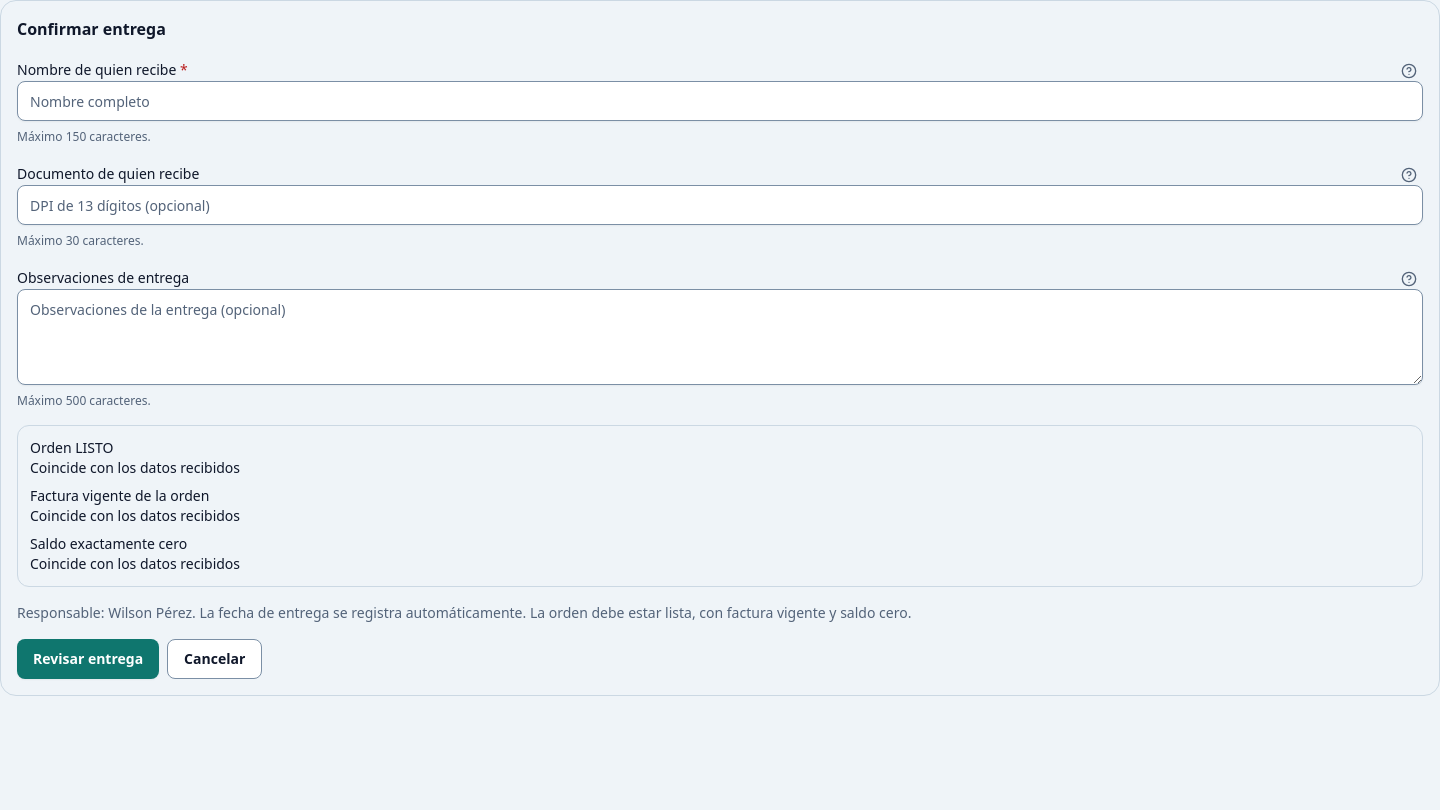
Test case: entregas reales › conserva receptor y documento al fallar con 400 sin reintentar
Type "Receptor" into the field labelled "Nombre de quien recibe *" at (720, 101), box x1=17 y1=81 x2=1423 y2=121
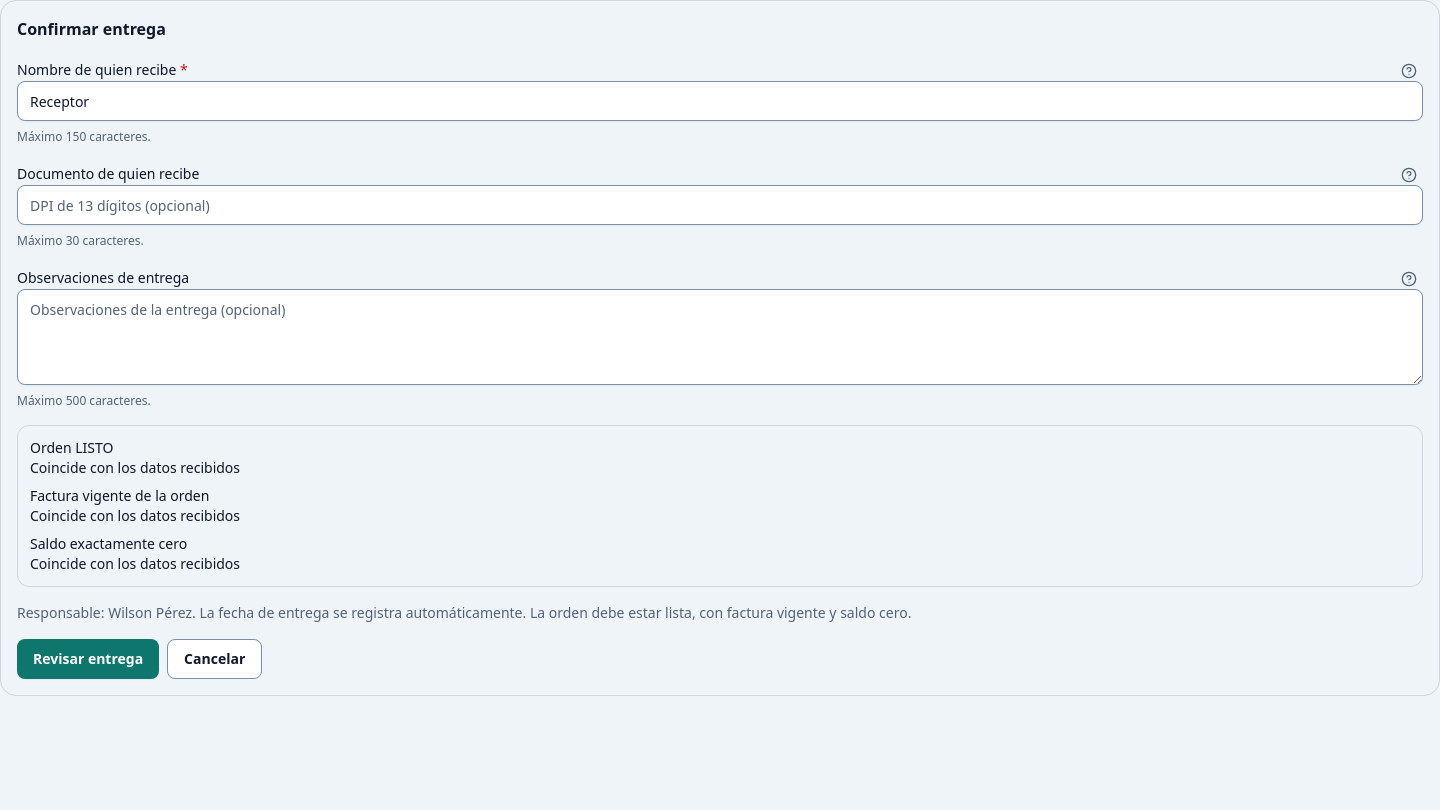
Type "1234 56789 0101" into the field labelled "Documento de quien recibe" at (720, 205), box x1=17 y1=185 x2=1423 y2=225
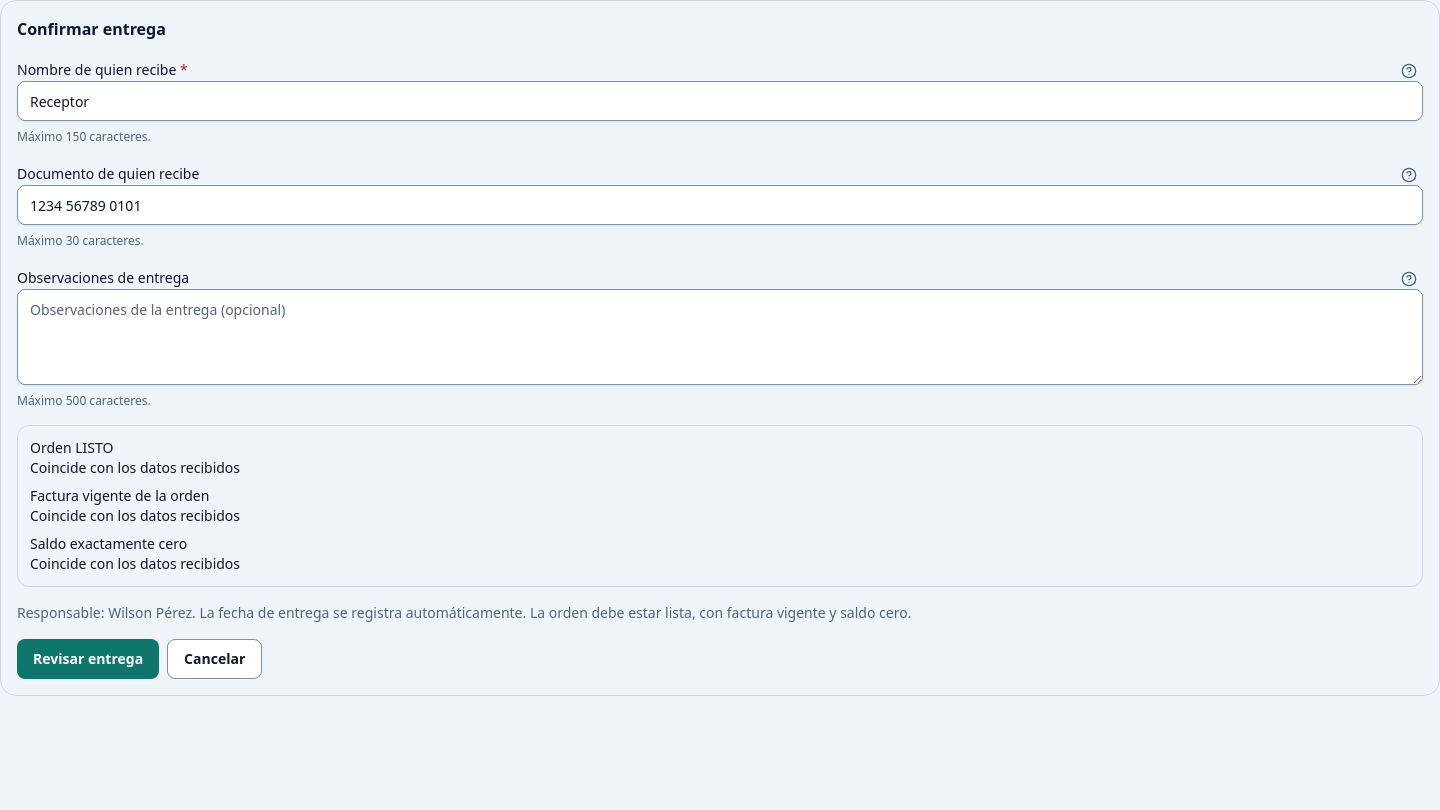
Click the button "Revisar entrega" at (88, 659), box x1=17 y1=639 x2=159 y2=679
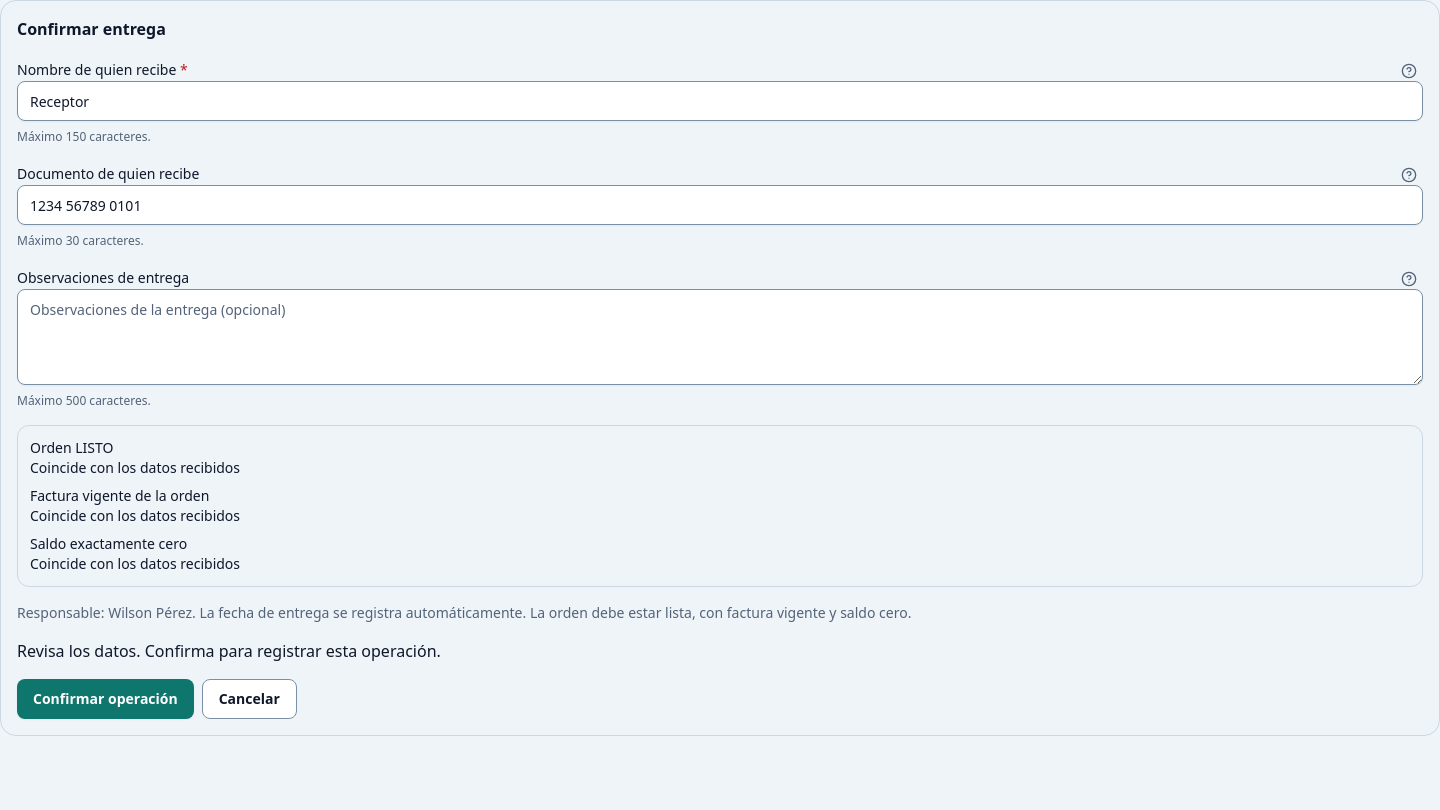
Click the button "Confirmar operación" at (105, 699), box x1=17 y1=679 x2=194 y2=719
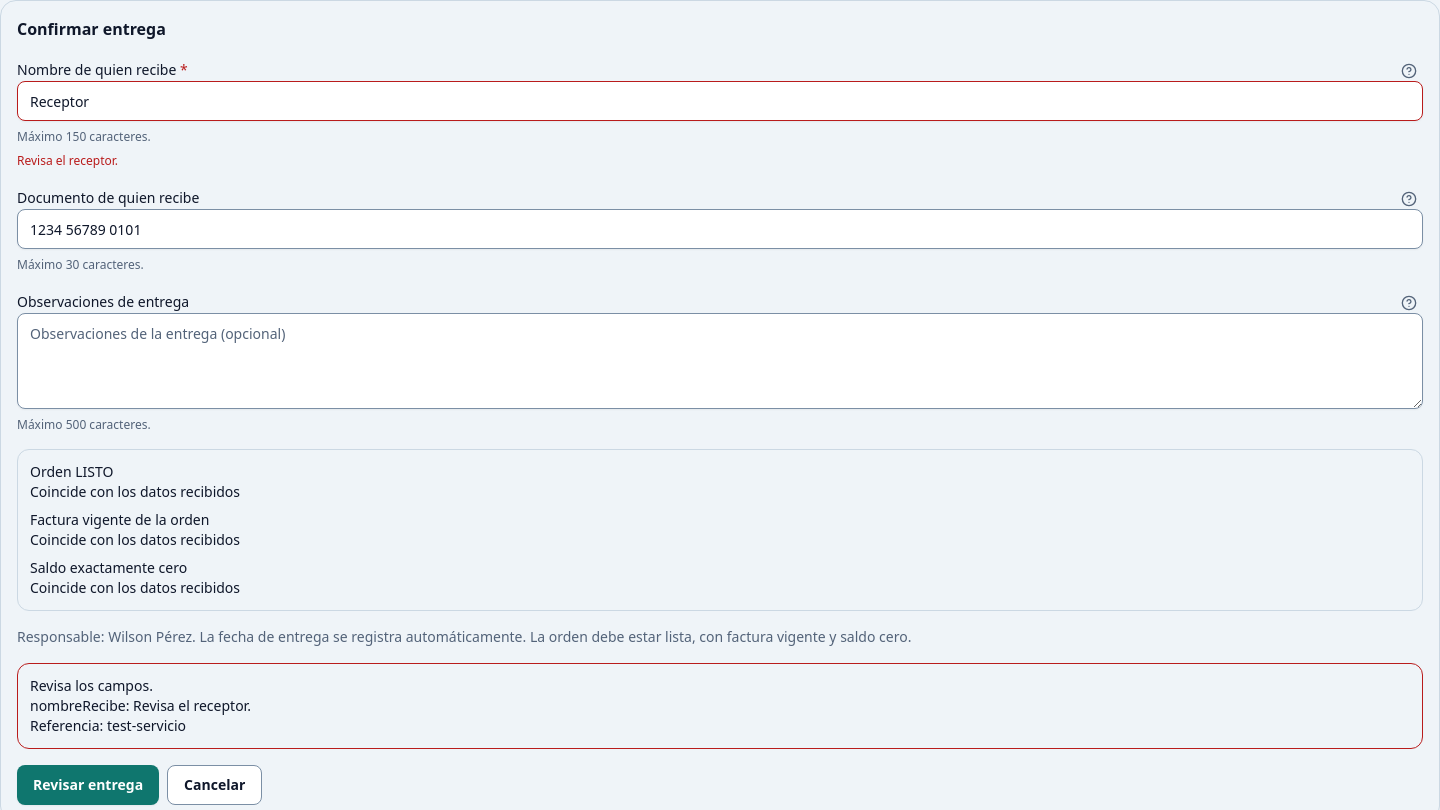
Check: the text "Revisa los campos." is shown, box x1=30 y1=676 x2=153 y2=695
